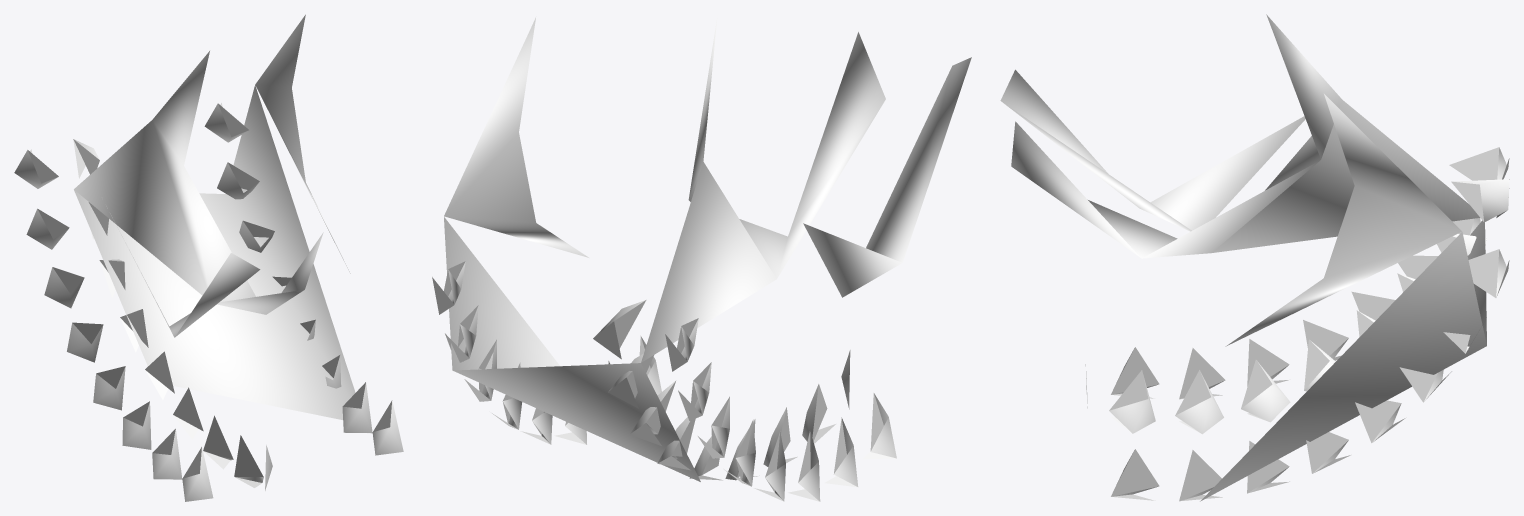
3 renders of one model, left to right at view 1: azimuth 30°, elevation 25°; view 2: azimuth 150°, elevation 25°; view 3: azimuth 270°, elevation 25°, orthographic. The views are drawn at different scales.
Size of the model in its own units: 0.5627 by 0.9139 by 0.9925.
Materials: 1 (1 with a texture image).
